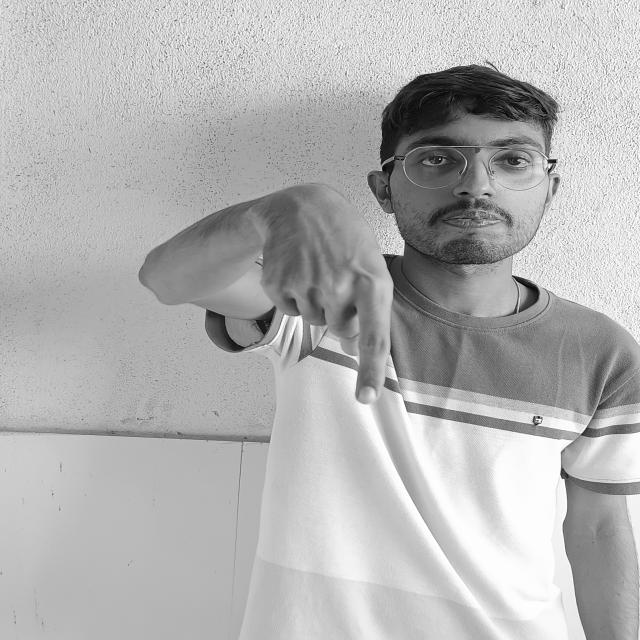Now: (177, 158, 439, 424)
